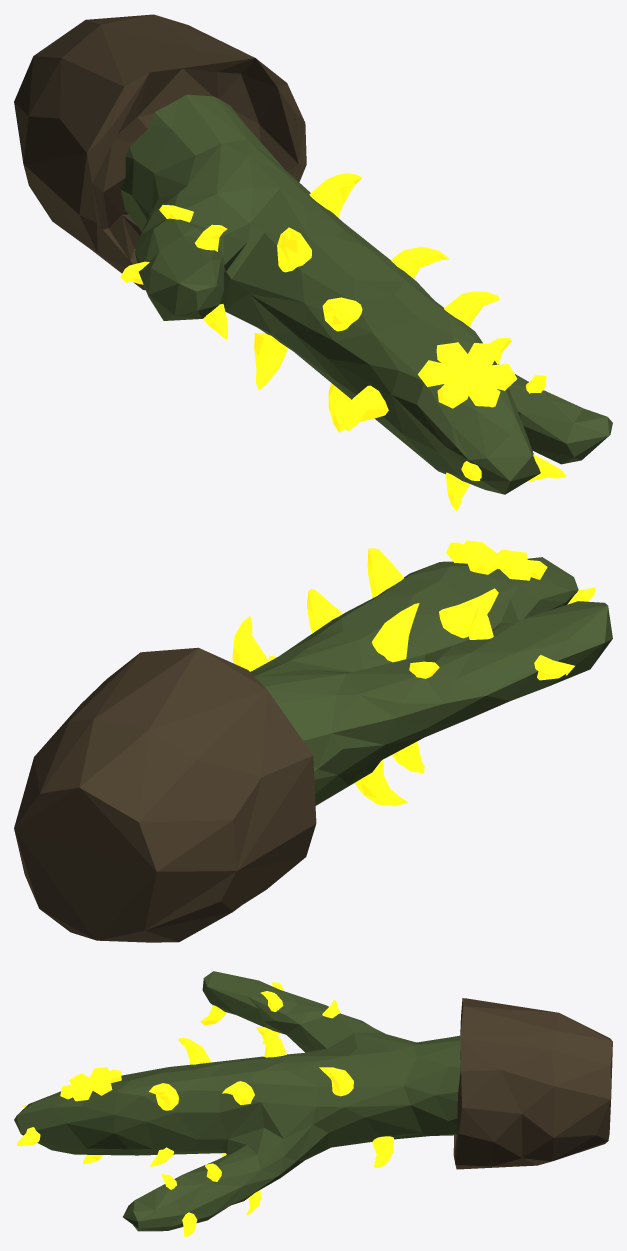
Rendered from CACTUS.fbx.
The picture shows the model from 3 angles, top to bottom: view 1: azimuth 30°, elevation 25°; view 2: azimuth 150°, elevation 25°; view 3: azimuth 270°, elevation 25°; orthographic projection. The views are drawn at different scales.
Parts seen in each view (by area): view 1: Layer_5; view 2: Layer_5; view 3: Layer_5.
Part boxes in pixels (box(x1,y1,x2,y2)): Layer_5: box(14, 14, 612, 510); Layer_5: box(14, 540, 612, 942); Layer_5: box(14, 971, 612, 1236).
Size of the model in its own units: 101 by 65.87 by 199.
